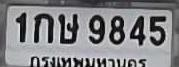1: (15, 11, 25, 42)
4: (129, 15, 144, 45)
5: (149, 15, 165, 45)
8: (109, 15, 124, 44)
9: (88, 14, 104, 43)
A01: (33, 12, 53, 42)
A39: (58, 13, 78, 43)
BKK: (30, 53, 148, 67)
